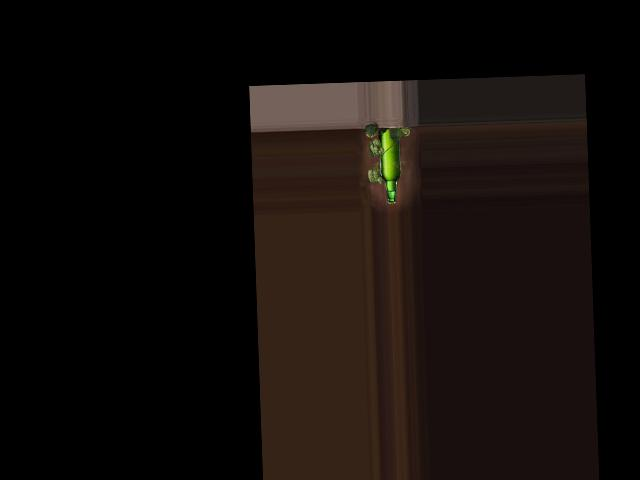beer: (379, 126, 402, 204)
